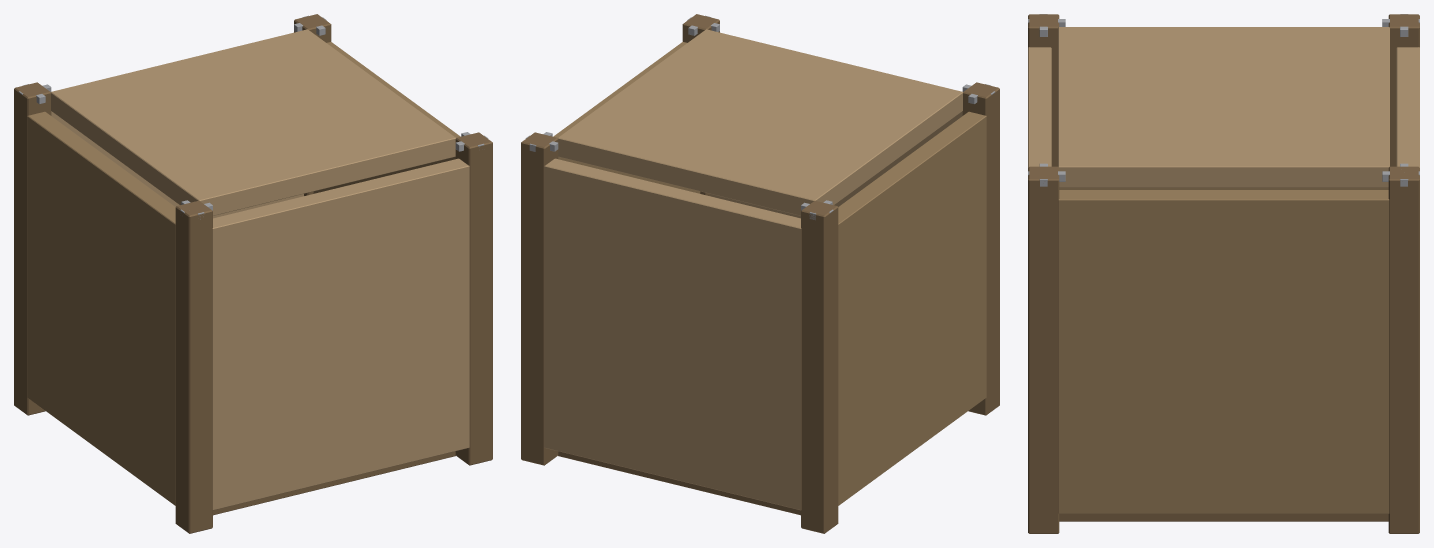
Rendered from FTF_Prop_WoodenCrate_Sealed_3m_Dark_v1.glb.
3 views of the same model, side by side, from view 1: azimuth 30°, elevation 25°; view 2: azimuth 150°, elevation 25°; view 3: azimuth 270°, elevation 25° (orthographic). The views are drawn at different scales.
Parts seen in each view (by area): view 1: FTF_Prop_WoodenCrate_Sealed_3m_Dark_v1_Static; view 2: FTF_Prop_WoodenCrate_Sealed_3m_Dark_v1_Static; view 3: FTF_Prop_WoodenCrate_Sealed_3m_Dark_v1_Static.
Boxes of the visible parts, x1=… form: FTF_Prop_WoodenCrate_Sealed_3m_Dark_v1_Static: x1=14, y1=14, x2=492, y2=533; FTF_Prop_WoodenCrate_Sealed_3m_Dark_v1_Static: x1=521, y1=14, x2=999, y2=533; FTF_Prop_WoodenCrate_Sealed_3m_Dark_v1_Static: x1=1028, y1=14, x2=1419, y2=533.
Size of the model in its own units: 3 by 3 by 3.
